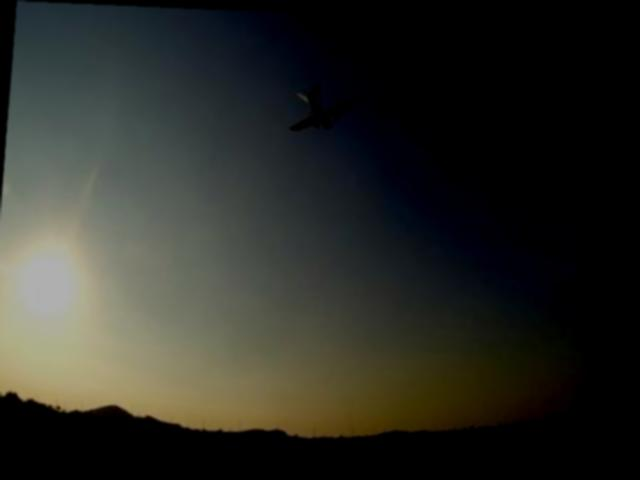uav: (282, 68, 364, 146)
